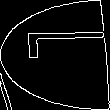L_E: (5, 38, 105, 72)
